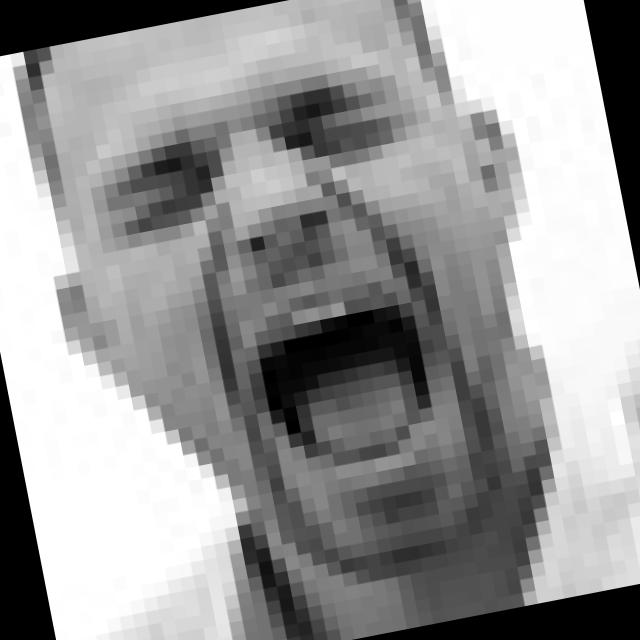angry: (77, 69, 480, 546)
